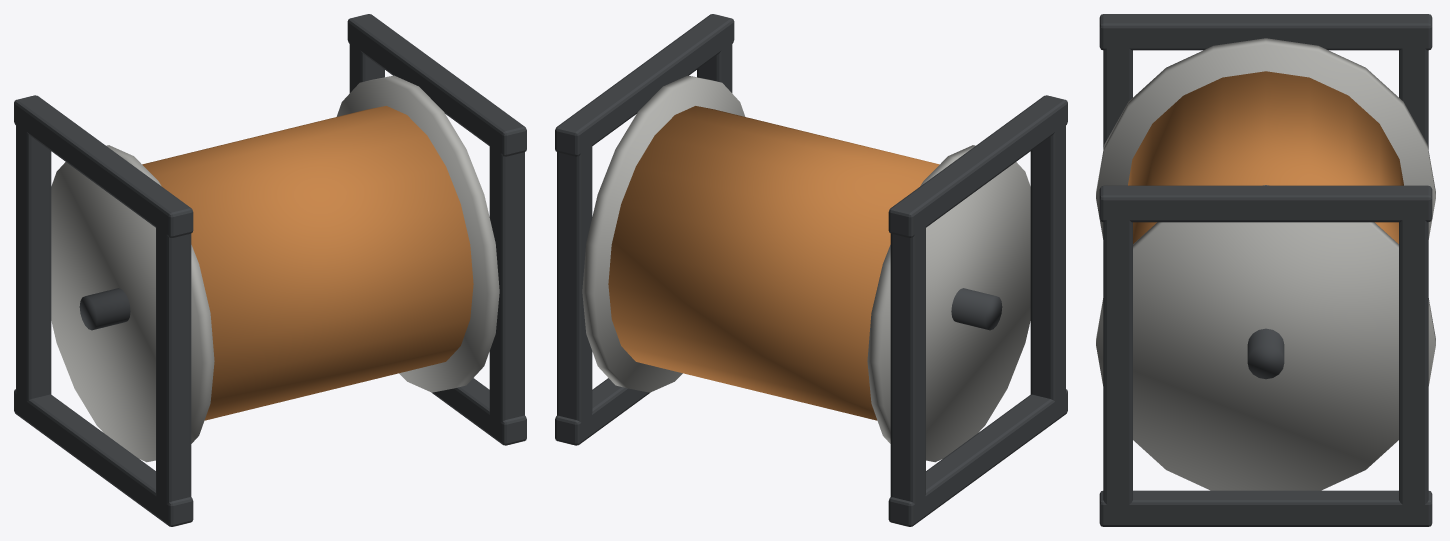
Rendered from cable_spool.glb.
The picture shows the model from 3 angles, left to right: view 1: azimuth 30°, elevation 25°; view 2: azimuth 150°, elevation 25°; view 3: azimuth 270°, elevation 25°; orthographic projection. The views are drawn at different scales.
Parts seen in each view (by area): view 1: cable_spool; view 2: cable_spool; view 3: cable_spool.
Boxes of the visible parts, x1,y1,x2,y2 form: cable_spool: (14,14,526,526); cable_spool: (555,14,1067,526); cable_spool: (1096,14,1435,526).
Size of the model in its own units: 1.2 by 0.99 by 0.92.
